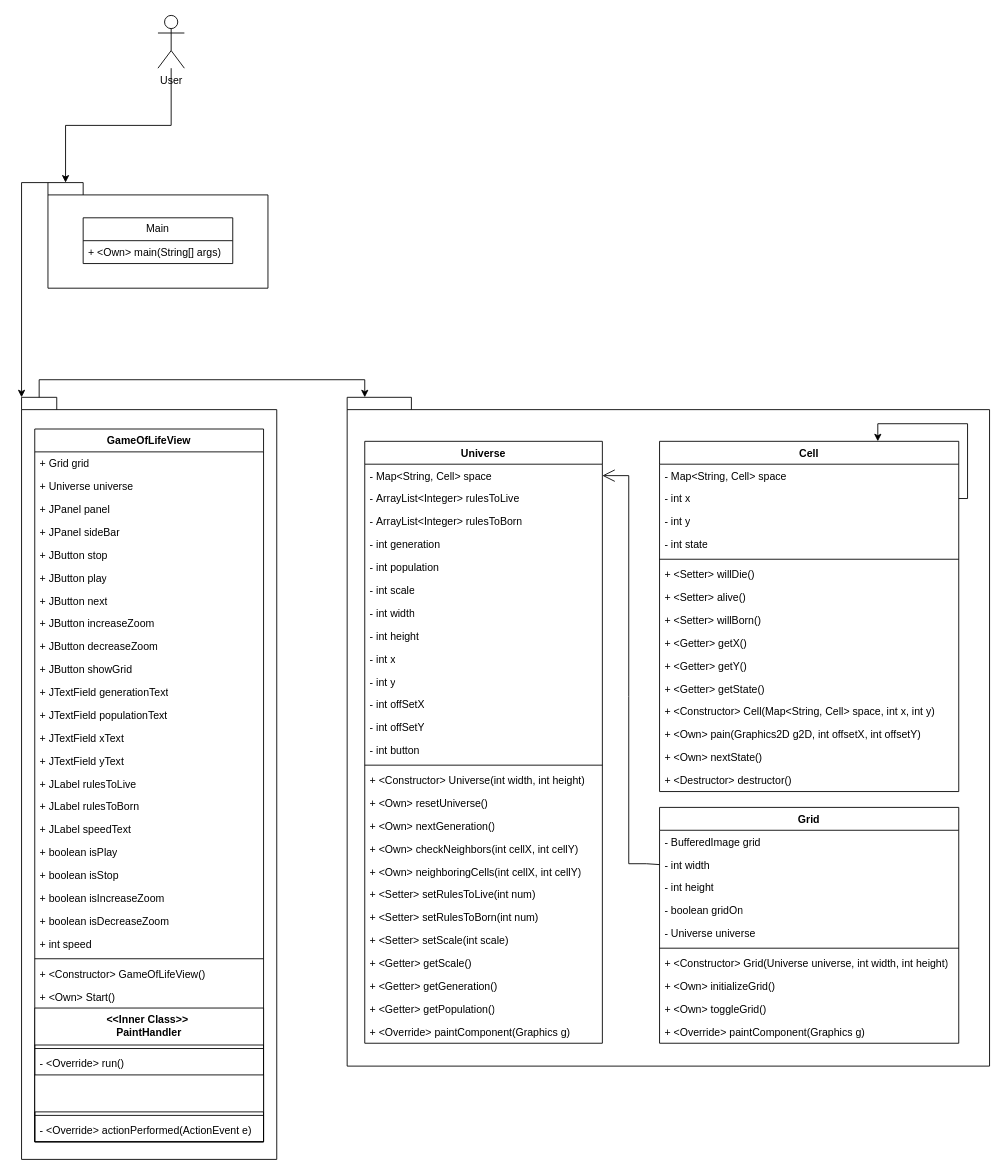
Image size: 1005x1175. Some labels were removed from this diagram. The box of each missing label's shape, as (x1, y1, x2, y2) in pixels:
<<Inner Class>> ActionEventHandler: (34, 1074, 264, 1142)
co.com.unicauca.gameoflife: (47, 182, 268, 288)
co.com.unicauca.gameoflife.controller: (21, 396, 277, 1159)
co.com.unicauca.gameoflife.model: (346, 396, 990, 1066)
